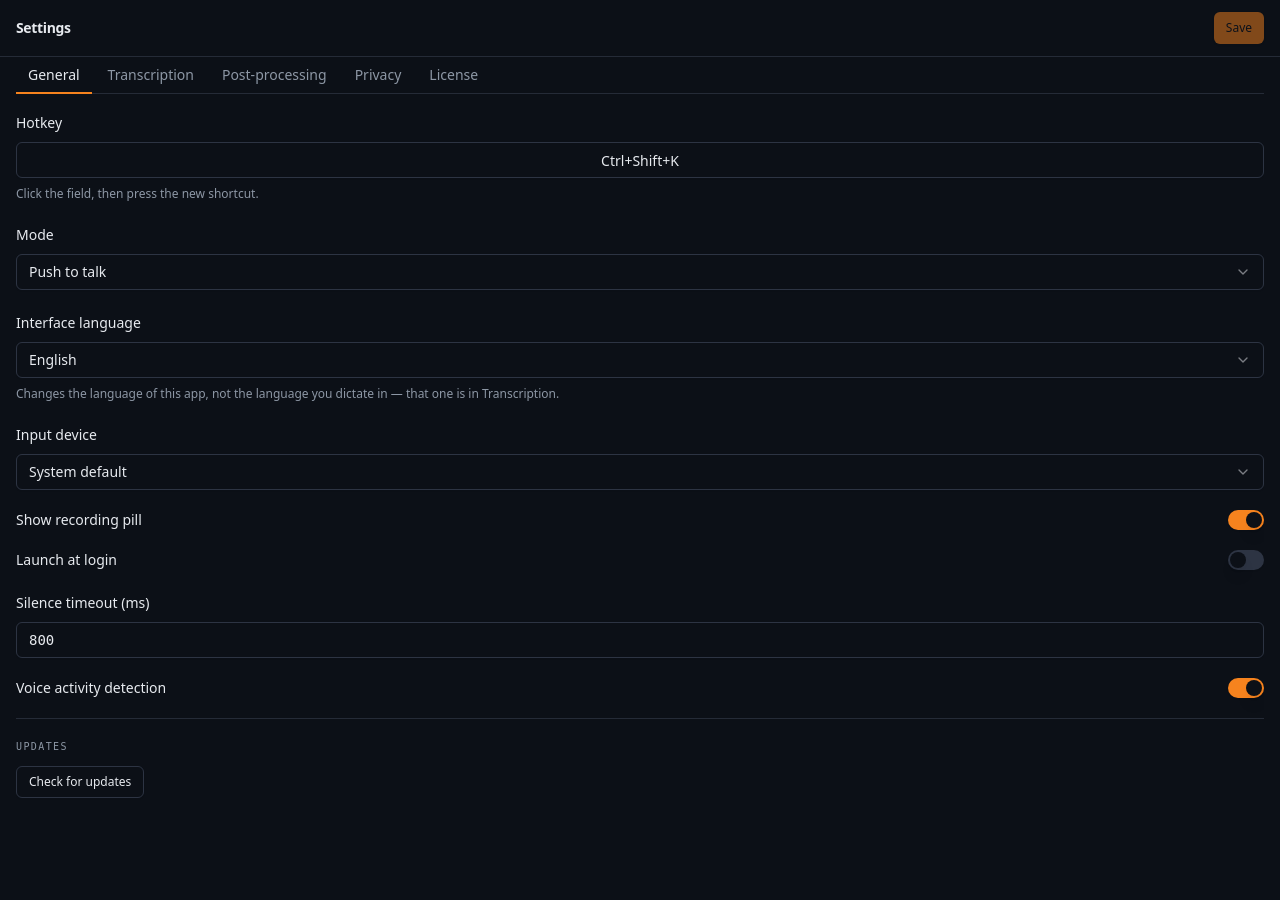
it: Settings (mock mode) › shows the device-limit reason in the license verdict
Expected: the field labelled "Hotkey" is shown, left=16, top=142, right=1264, bottom=178
Click the tab "License" at (454, 75), box left=417, top=57, right=490, bottom=93
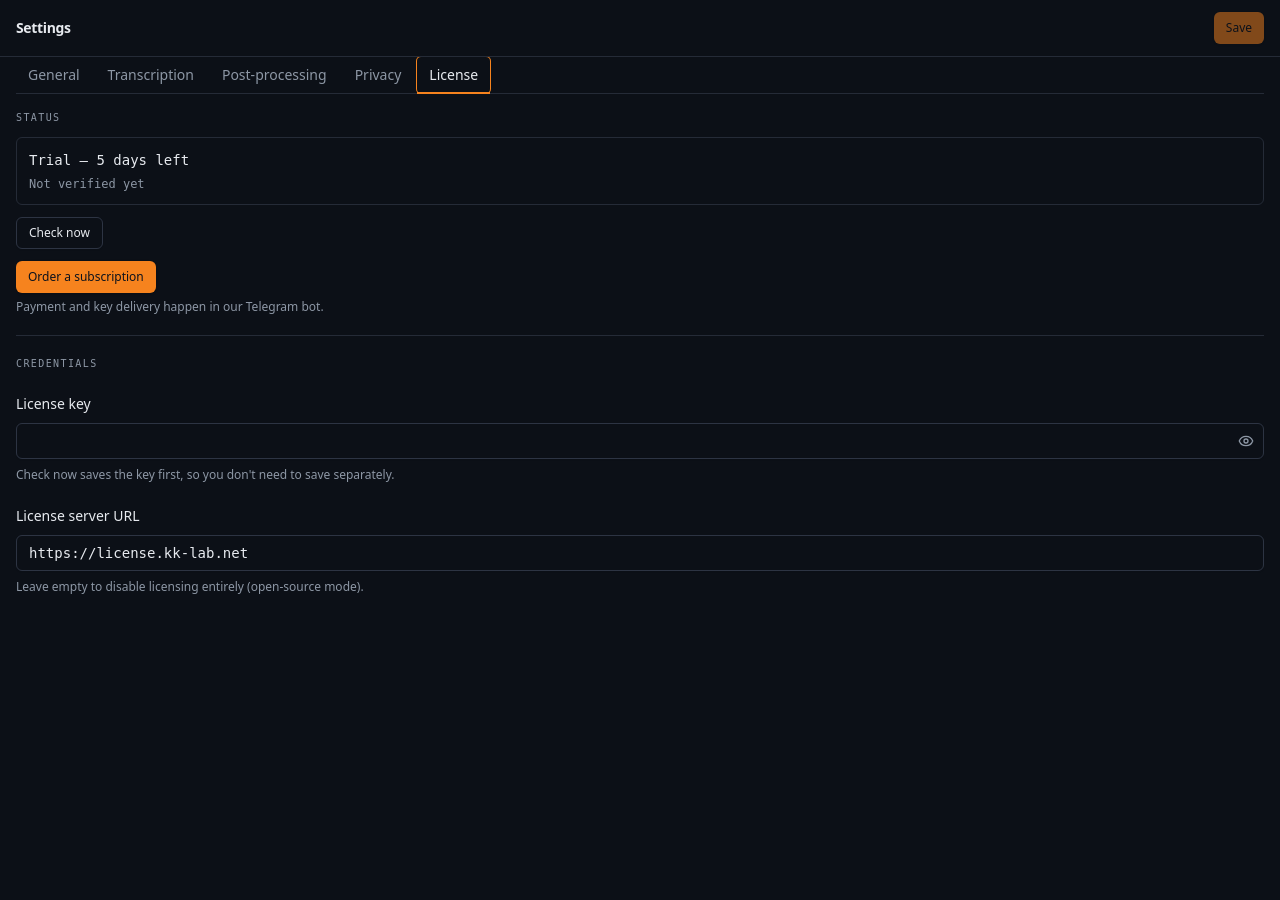
Type "DEVICELIMIT" into the password field labelled "License key" at (640, 441), box left=16, top=423, right=1264, bottom=459
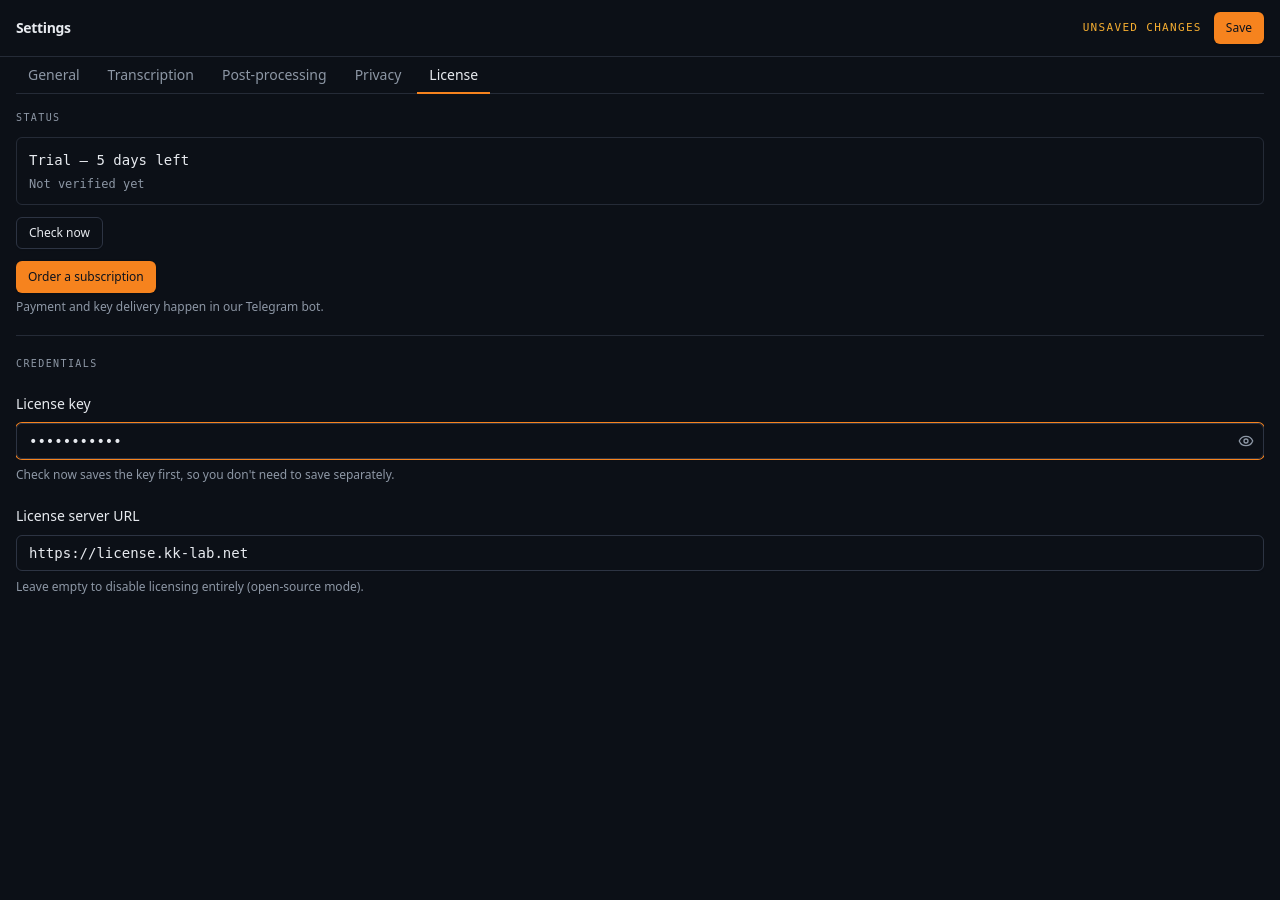
Click the button "Check now" at (59, 233), box left=16, top=217, right=103, bottom=249
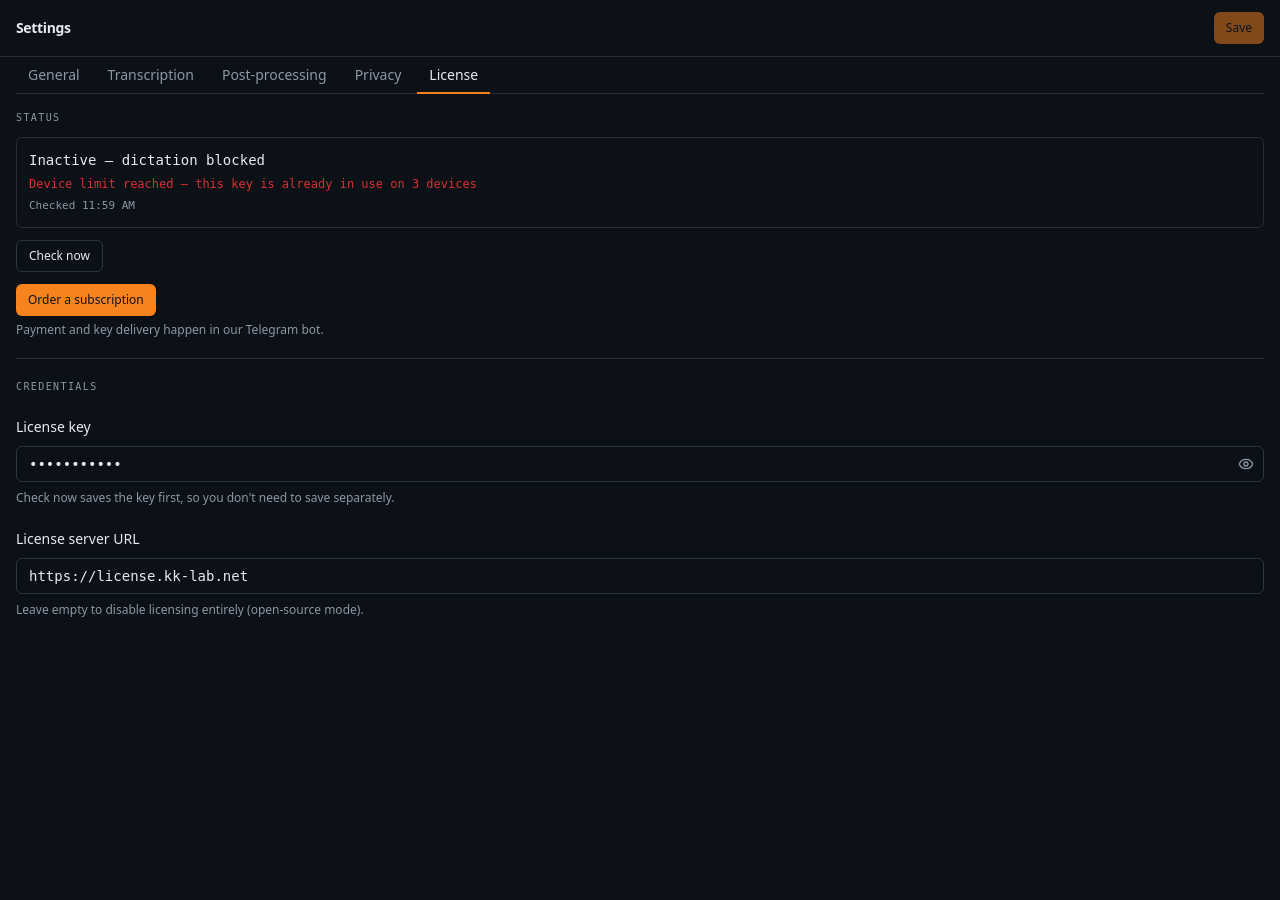
Result: the text "Device limit reached — this key is already in use on 3 devices" is shown at left=29, top=177, right=477, bottom=191
